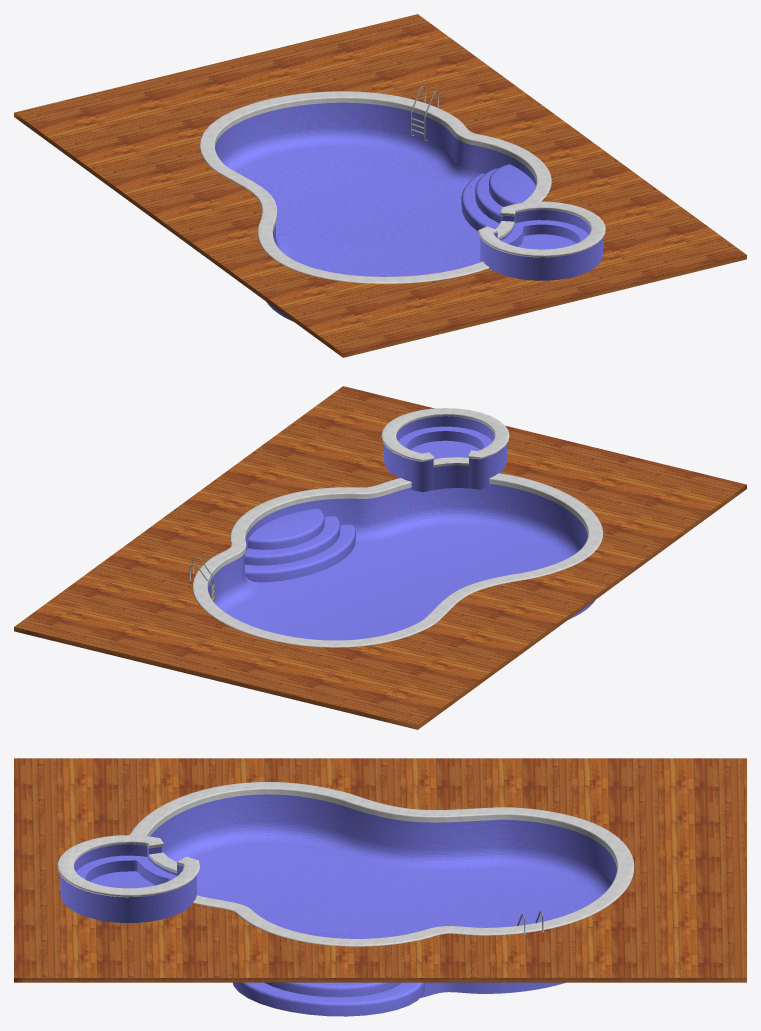
Rendered from oasis.obj.
3 views of the same model, one above another, from view 1: azimuth 30°, elevation 25°; view 2: azimuth 150°, elevation 25°; view 3: azimuth 270°, elevation 25° (orthographic). The views are drawn at different scales.
Parts seen in each view (by area): view 1: oasis_suelo_sombra, oasis_sombra, oasis_borde_sombra, jacuzzi_oasis_sombra, escalera_obra_oasis_sombra, jacuzzi_borde_oasis_sombra; view 2: oasis_suelo_sombra, oasis_sombra, oasis_borde_sombra, jacuzzi_oasis_sombra, escalera_obra_oasis_sombra, jacuzzi_borde_oasis_sombra; view 3: oasis_suelo_sombra, oasis_sombra, oasis_borde_sombra, jacuzzi_oasis_sombra, escalera_obra_oasis_sombra, jacuzzi_borde_oasis_sombra.
Part boxes in pixels (box(x1,y1,x2,y2)): oasis_suelo_sombra: box(14, 14, 746, 357); oasis_sombra: box(215, 102, 536, 321); oasis_borde_sombra: box(199, 91, 551, 283); jacuzzi_oasis_sombra: box(480, 210, 602, 280); escalera_obra_oasis_sombra: box(461, 164, 535, 231); jacuzzi_borde_oasis_sombra: box(478, 201, 605, 257); oasis_suelo_sombra: box(14, 386, 746, 729); oasis_sombra: box(207, 484, 595, 640); oasis_borde_sombra: box(192, 473, 602, 647); jacuzzi_oasis_sombra: box(384, 416, 506, 492); escalera_obra_oasis_sombra: box(245, 508, 355, 582); jacuzzi_borde_oasis_sombra: box(381, 408, 509, 467); oasis_suelo_sombra: box(14, 758, 746, 982); oasis_sombra: box(150, 794, 616, 997); oasis_borde_sombra: box(129, 782, 634, 946); jacuzzi_oasis_sombra: box(60, 844, 196, 922); escalera_obra_oasis_sombra: box(233, 933, 424, 1016); jacuzzi_borde_oasis_sombra: box(57, 835, 199, 897).
Bounding box in the file's own units: 669 × 128 × 945.
